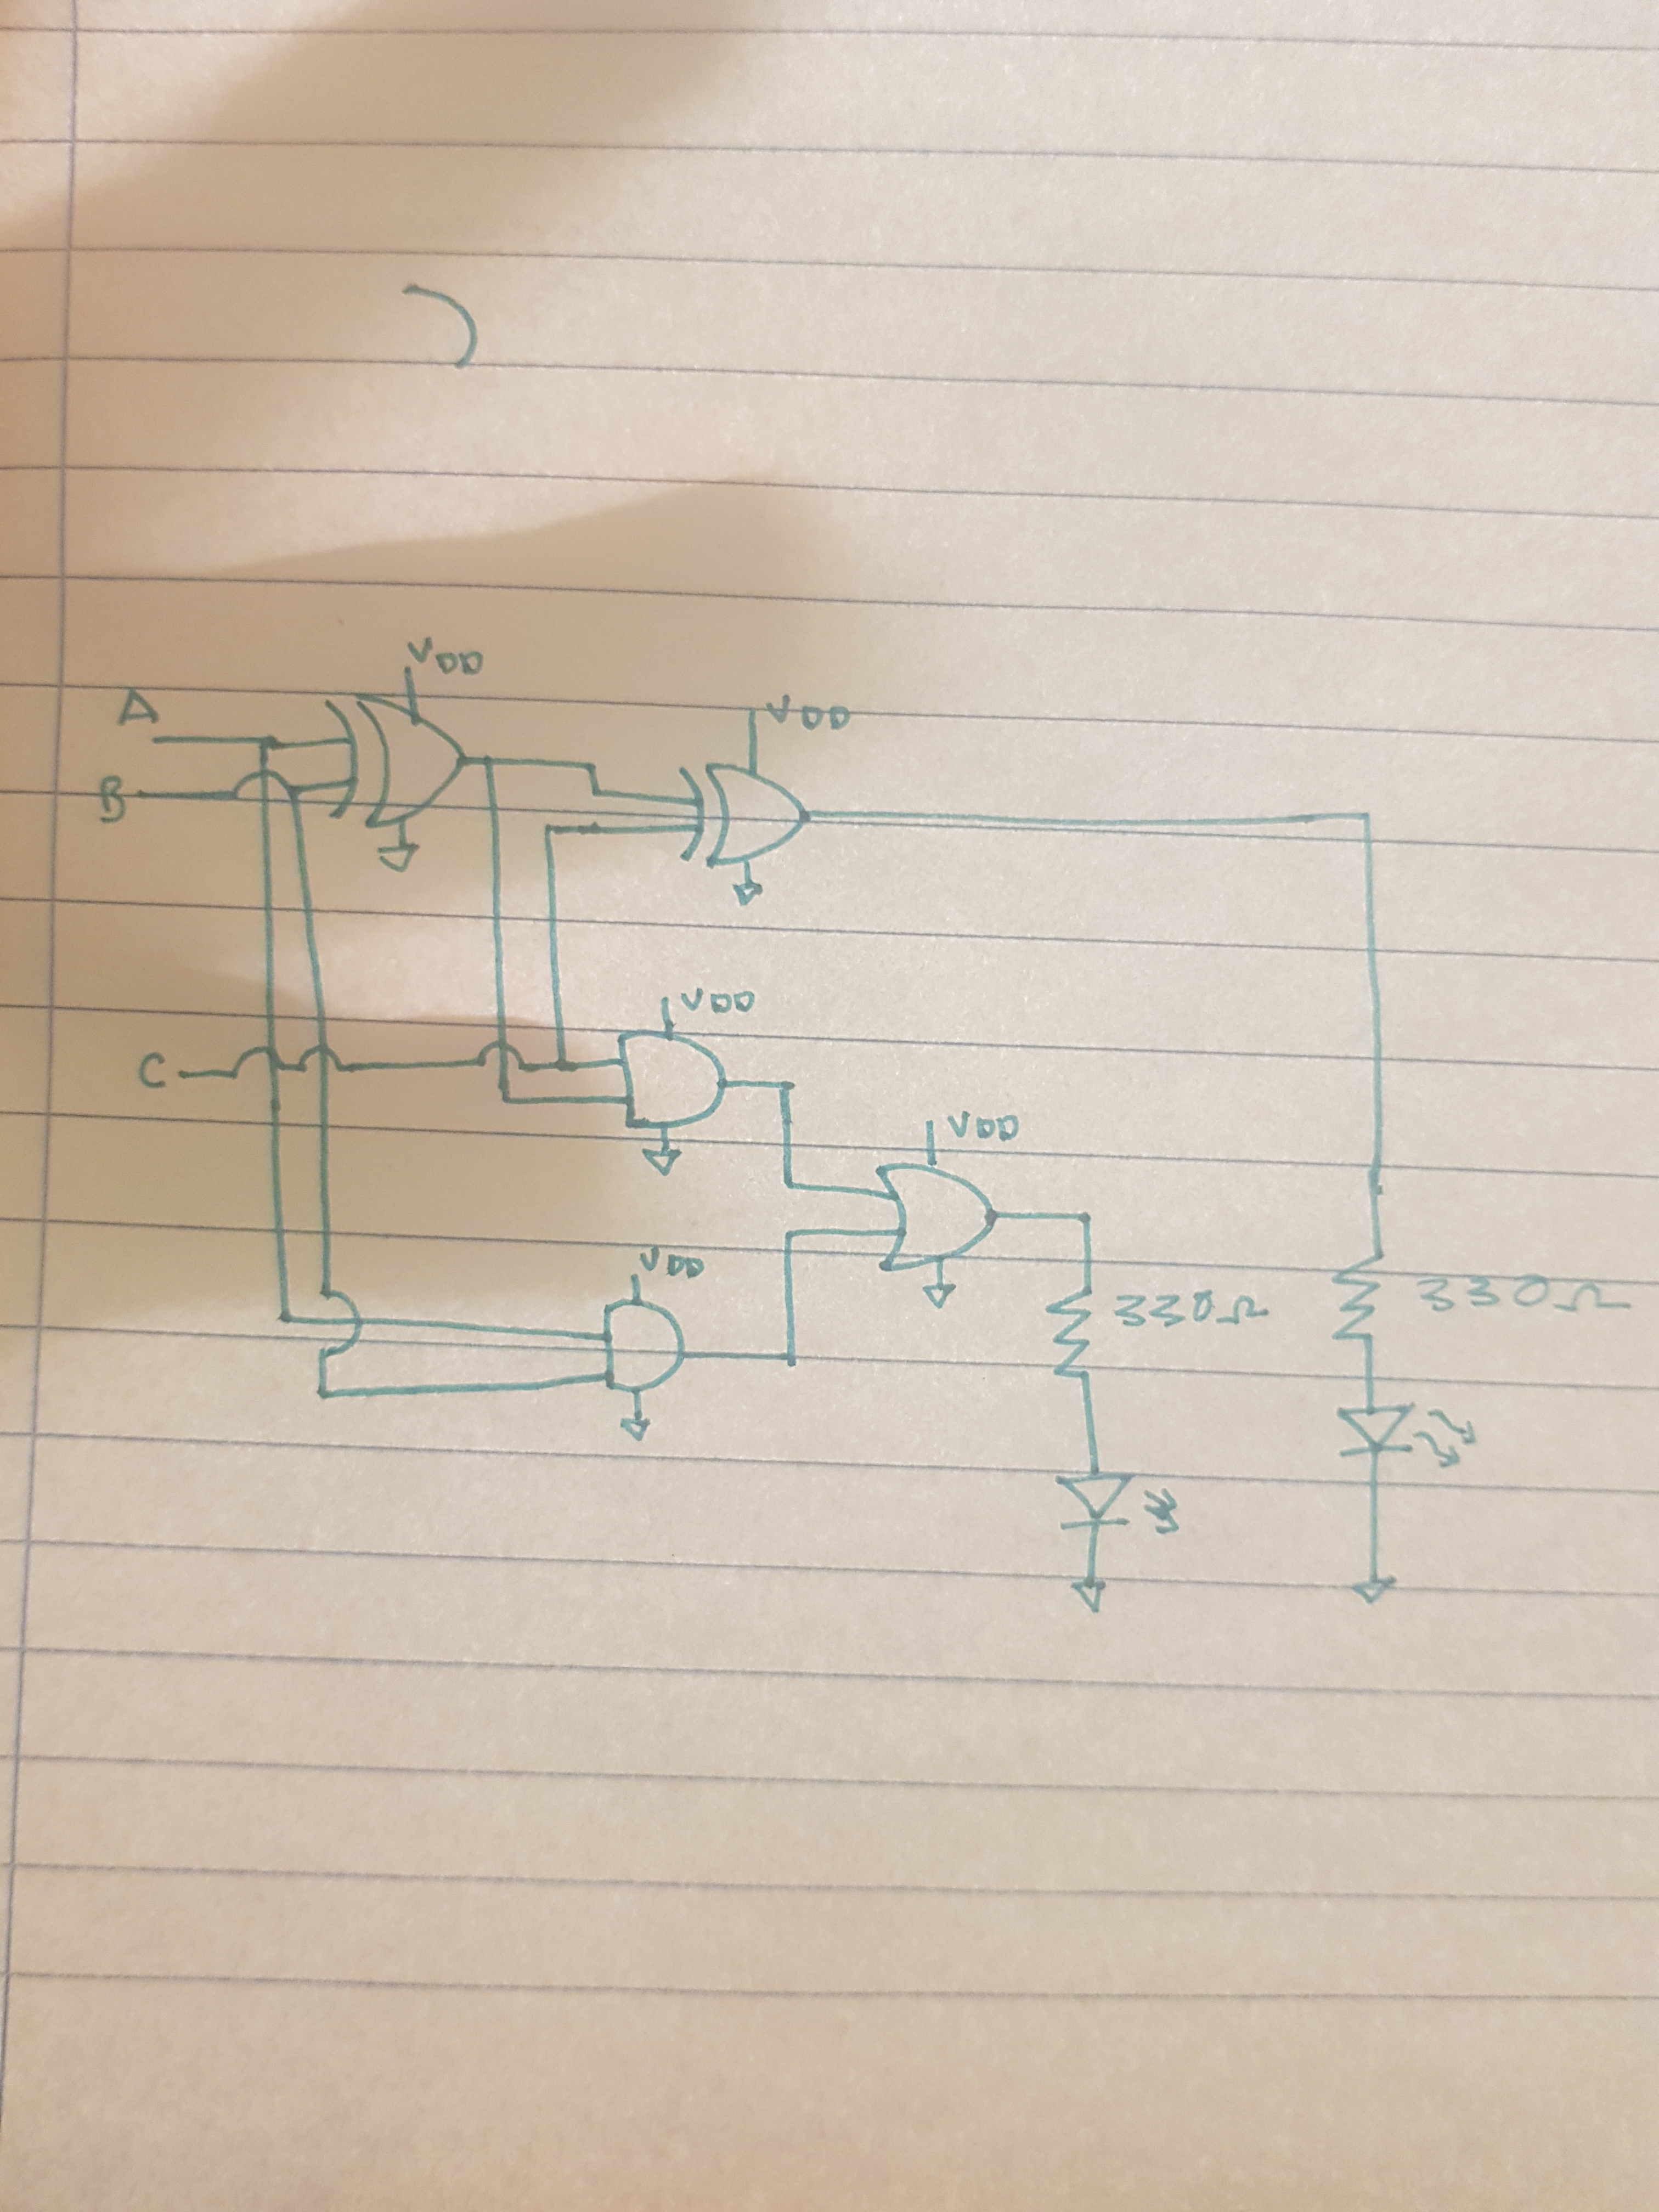and: (615, 1028, 741, 1132), (598, 1282, 690, 1399)
crossover: (317, 1289, 369, 1364), (230, 770, 303, 806), (232, 1043, 288, 1083), (295, 1043, 345, 1082), (476, 1040, 530, 1073)
diode.light_emitting: (1330, 1399, 1485, 1470), (1051, 1468, 1187, 1541)
gnd: (375, 841, 423, 880), (638, 1143, 687, 1181), (612, 1409, 660, 1447), (915, 1277, 964, 1315), (1065, 1578, 1114, 1616), (1347, 1573, 1396, 1611), (727, 878, 770, 913)
junction: (582, 759, 608, 801), (772, 1345, 809, 1371), (774, 1073, 807, 1101), (270, 1305, 296, 1331), (310, 1383, 338, 1407), (490, 1089, 518, 1113), (253, 733, 284, 754), (775, 1224, 802, 1249), (538, 819, 565, 843), (777, 1172, 802, 1197), (551, 1054, 575, 1076), (1077, 1207, 1100, 1230), (1356, 808, 1373, 827), (479, 754, 498, 770)
or: (868, 1150, 1004, 1280)
resistor: (1037, 1280, 1103, 1390), (1326, 1249, 1394, 1353)
terminal: (129, 780, 162, 812), (143, 726, 173, 758), (169, 1061, 200, 1089)
text: (1410, 1270, 1635, 1318), (1112, 1287, 1274, 1327), (765, 690, 854, 733), (406, 634, 488, 676), (945, 1108, 1021, 1143), (676, 984, 758, 1015), (638, 1244, 706, 1280), (113, 688, 164, 728), (132, 1049, 176, 1092), (96, 772, 129, 826)
xor: (317, 676, 474, 836), (673, 744, 817, 871)
